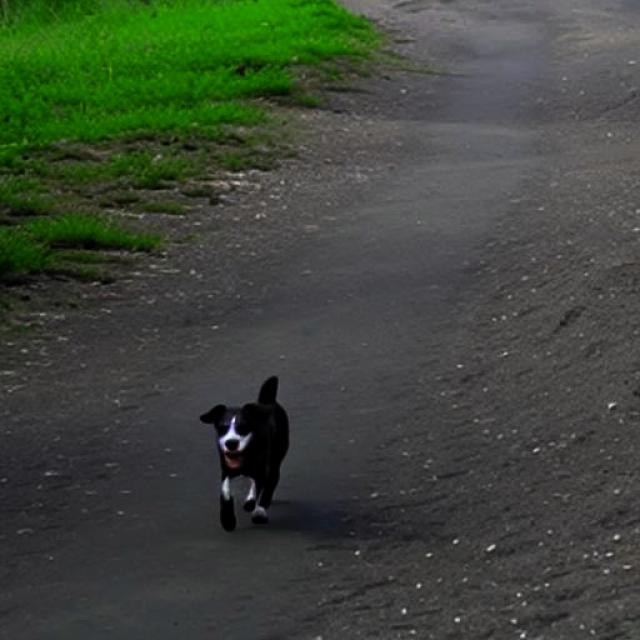Dog: (200, 376, 290, 530)
